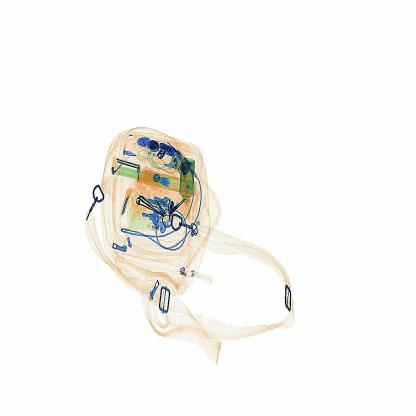pliers: (119, 180, 138, 227)
